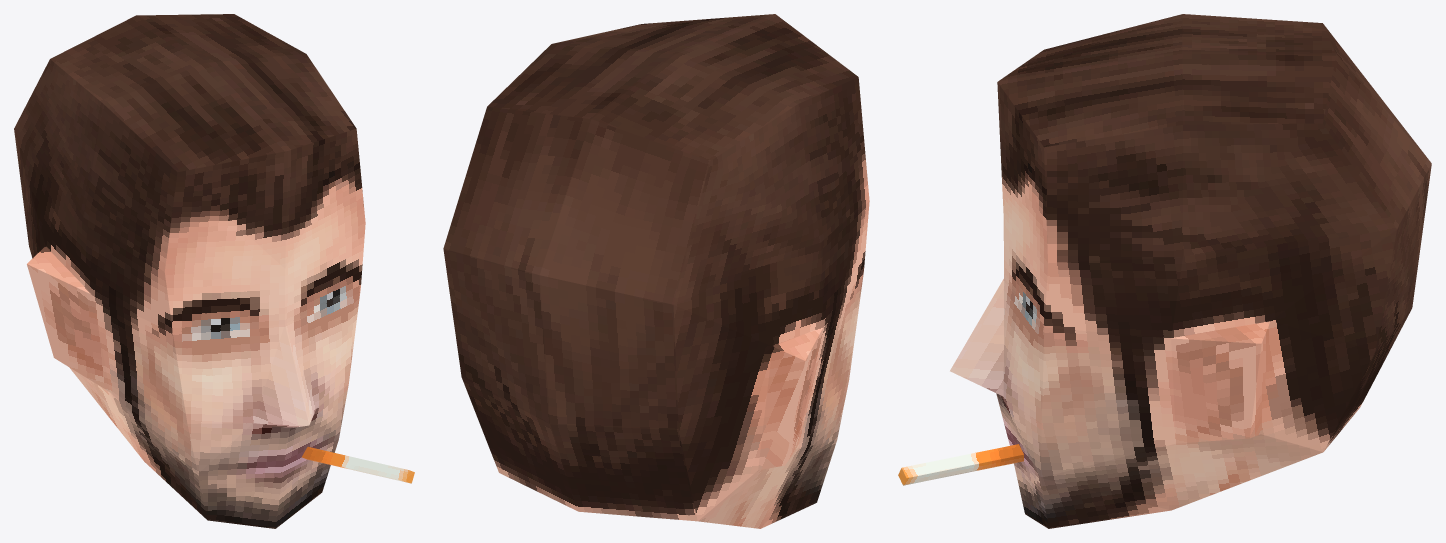
Rendered from bro_head.glb.
3 renders of one model, left to right at view 1: azimuth 30°, elevation 25°; view 2: azimuth 150°, elevation 25°; view 3: azimuth 270°, elevation 25°, orthographic. The views are drawn at different scales.
Visible parts, largest first — view 1: Bro.018; view 2: Bro.018; view 3: Bro.018.
Boxes of the visible parts, x1=… form: Bro.018: x1=14, y1=14, x2=414, y2=528; Bro.018: x1=443, y1=14, x2=869, y2=528; Bro.018: x1=898, y1=14, x2=1431, y2=528.
Bounding box in the file's own units: 0.3278 × 0.4542 × 0.4748.
Materials: 1 (1 with a texture image).
